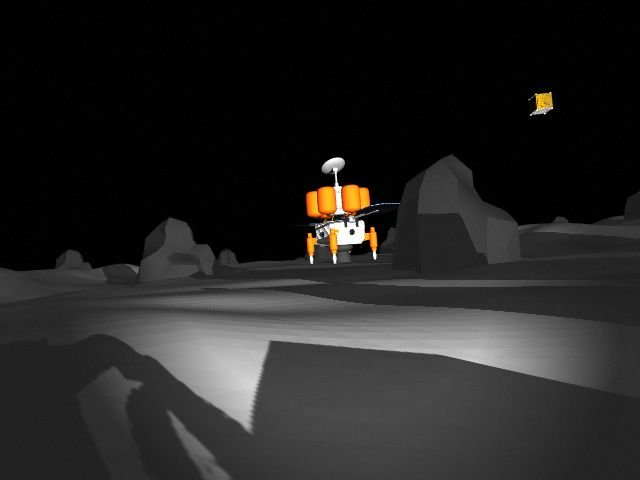homebase: (284, 155, 409, 266)
